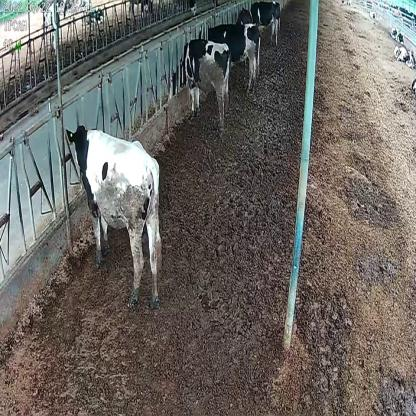cow: (64, 123, 161, 313), (167, 38, 231, 138), (194, 23, 261, 99)
